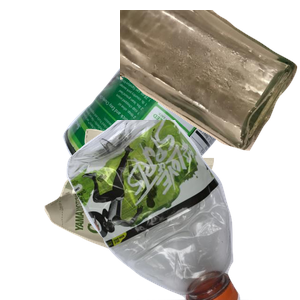glass: (120, 10, 300, 153)
metal: (60, 23, 300, 203)
plastic: (64, 120, 300, 300)
trash: (42, 126, 249, 300)
